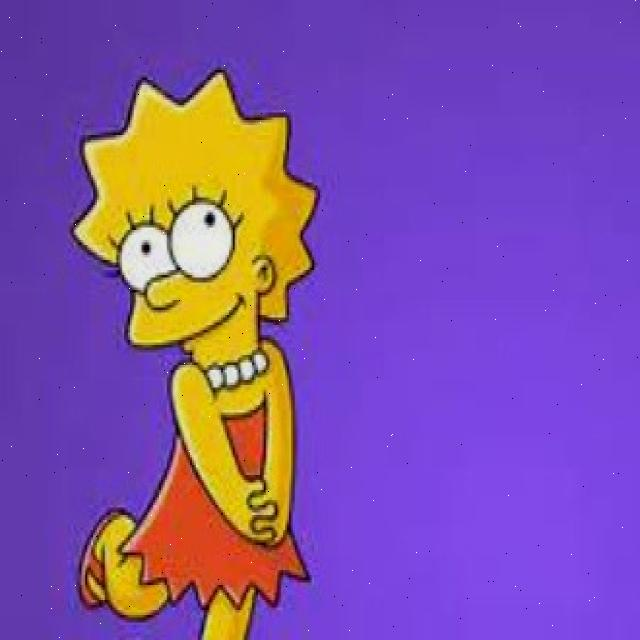Lisa Simpson: (68, 64, 324, 396)
